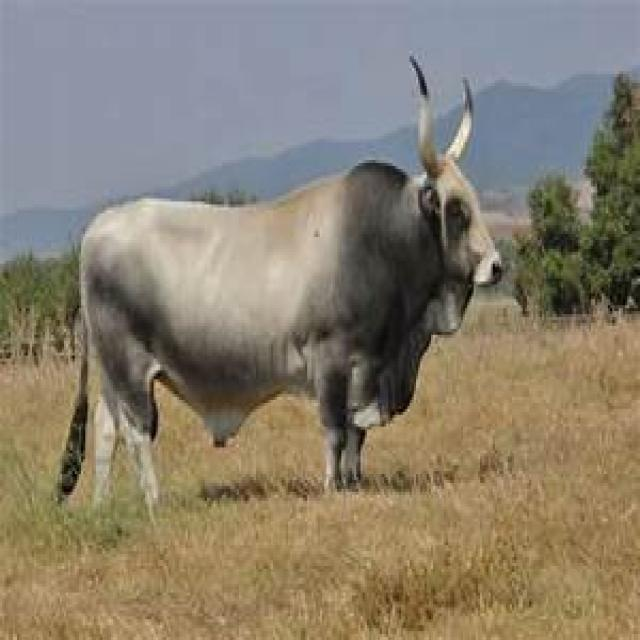cow: (54, 54, 504, 522)
